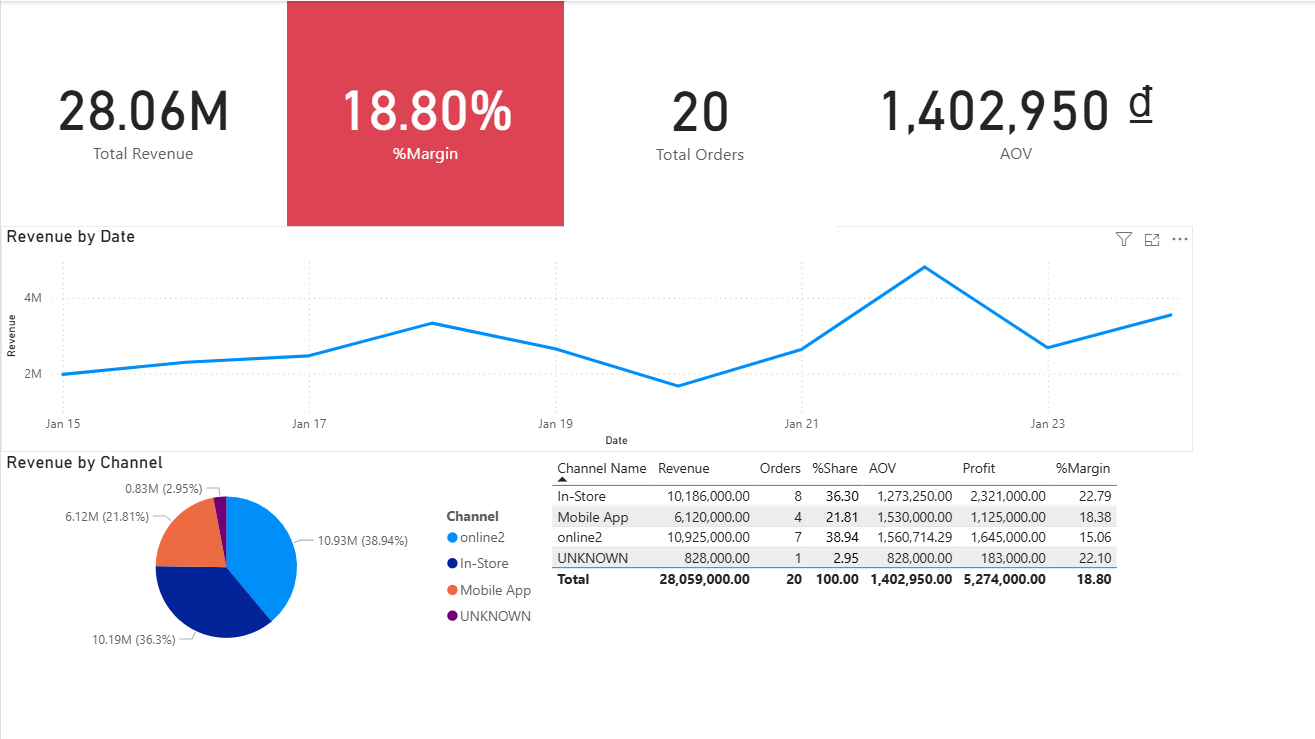

The page's visual inventory and layout, read from the dashboard file:
{"tool":"powerbi","page":{"name":"EXECUTIVE OVERVIEW","canvas":[1280,720],"ordinal":0},"visuals":[{"type":"tableEx","fields":{"Values":["dim_channel.channel_name","Sum(fact_sales.amount)","dim_channel.Count Distinct Orders 2","select2","select","Sum(fact_sales.profit_amount)","select1"]},"box":[530.4,438.5,629.4,205.1],"z":0},{"type":"pieChart","fields":{"Category":["dim_channel.channel_name"],"Y":["Sum(fact_sales.amount)"]},"box":[0,438.5,530.4,205.1],"z":1000},{"type":"lineChart","fields":{"Category":["fact_sales.order_date"],"Y":["Sum(fact_sales.amount)"]},"box":[0,219.2,1159.8,219.2],"z":2000},{"type":"card","fields":{"Values":["Sum(fact_sales.amount)"]},"box":[-0.5,0.3,278.8,219.2],"z":3000},{"type":"card","fields":{"Values":["Sum(fact_sales.amount)","Sum(fact_sales.profit_amount)","fact_sales.Sum of amount % difference from Sum of profit_amount"]},"box":[278.3,0.3,269.7,219.2],"z":4000},{"type":"card","fields":{"Values":["Count(fact_sales.order_id)"]},"box":[548.1,0.6,264.9,219.2],"z":5000},{"type":"card","fields":{"Values":["Sum(fact_sales.amount)","select","Count(fact_sales.order_id)"]},"box":[813.8,0.3,346.5,219.2],"z":6000}]}

Visuals, with their boxes in screenshot pixels (x1, y1, x2, y2), scaled from the page's 1280x720 canvas onto the 1315x739 screenshot:
tableEx - dim_channel.channel_name x Sum(fact_sales.amount): (left=545, top=450, right=1192, bottom=661)
pieChart - dim_channel.channel_name x Sum(fact_sales.amount): (left=0, top=450, right=545, bottom=661)
lineChart - fact_sales.order_date x Sum(fact_sales.amount): (left=0, top=225, right=1192, bottom=450)
card - Sum(fact_sales.amount): (left=0, top=0, right=286, bottom=225)
card - Sum(fact_sales.amount) x Sum(fact_sales.profit_amount): (left=286, top=0, right=563, bottom=225)
card - Count(fact_sales.order_id): (left=563, top=1, right=835, bottom=226)
card - Sum(fact_sales.amount) x select: (left=836, top=0, right=1192, bottom=225)
